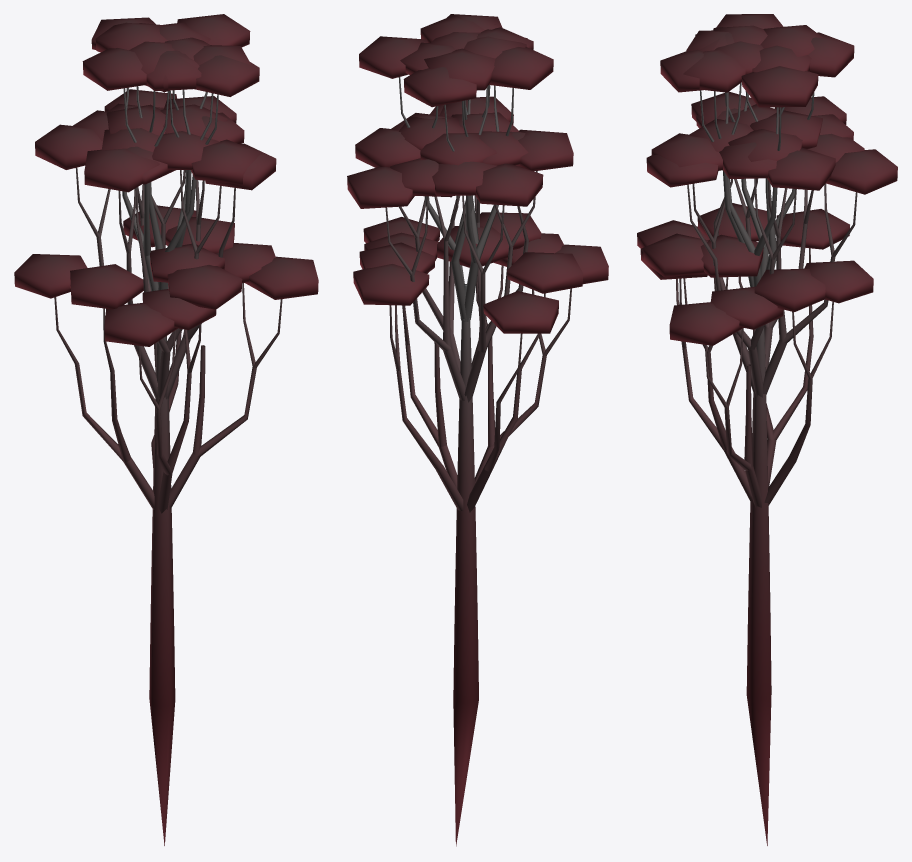
The model's file is plants-trees-palms-tiered-red-tree_v1.glb.
The picture shows the model from 3 angles, left to right: view 1: azimuth 30°, elevation 25°; view 2: azimuth 150°, elevation 25°; view 3: azimuth 270°, elevation 25°; orthographic projection.
Parts seen in each view (by area): view 1: Tiered Red Tree_v1; view 2: Tiered Red Tree_v1; view 3: Tiered Red Tree_v1.
Part boxes in pixels (left/top/right/bottom): Tiered Red Tree_v1: left=14, top=14, right=318, bottom=845; Tiered Red Tree_v1: left=347, top=14, right=608, bottom=846; Tiered Red Tree_v1: left=637, top=14, right=897, bottom=845.
Bounding box in the file's own units: 1.87 × 6 × 1.75.
